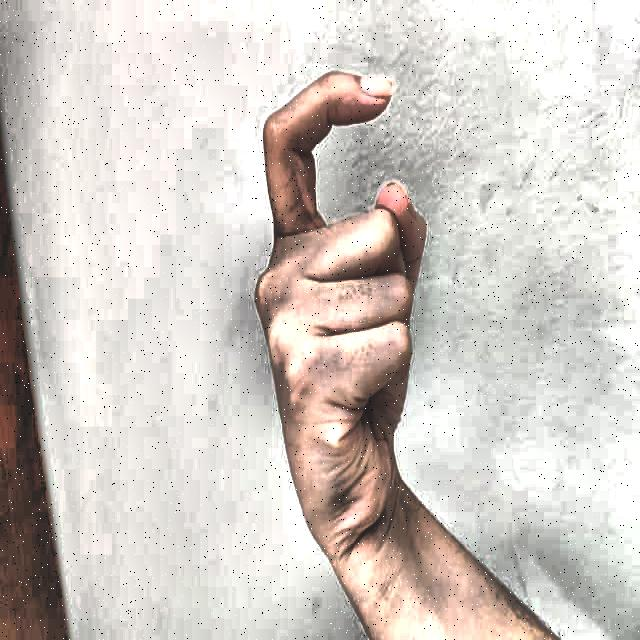E: (228, 40, 472, 538)
